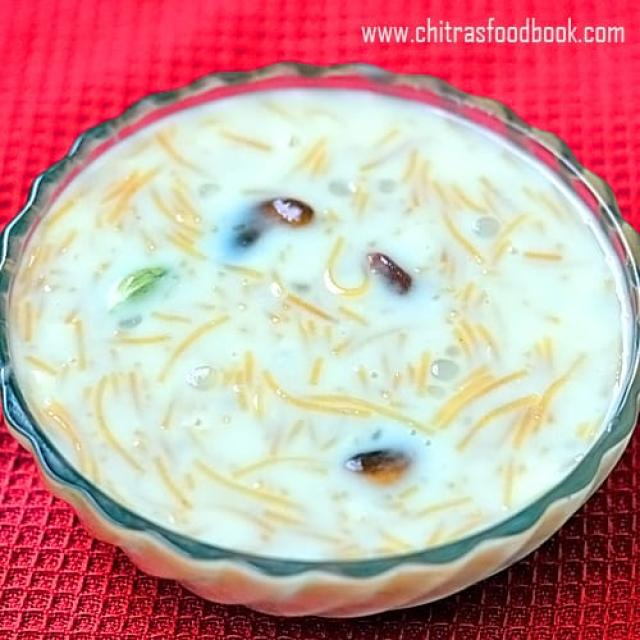shavige payasa: (0, 64, 640, 570)
